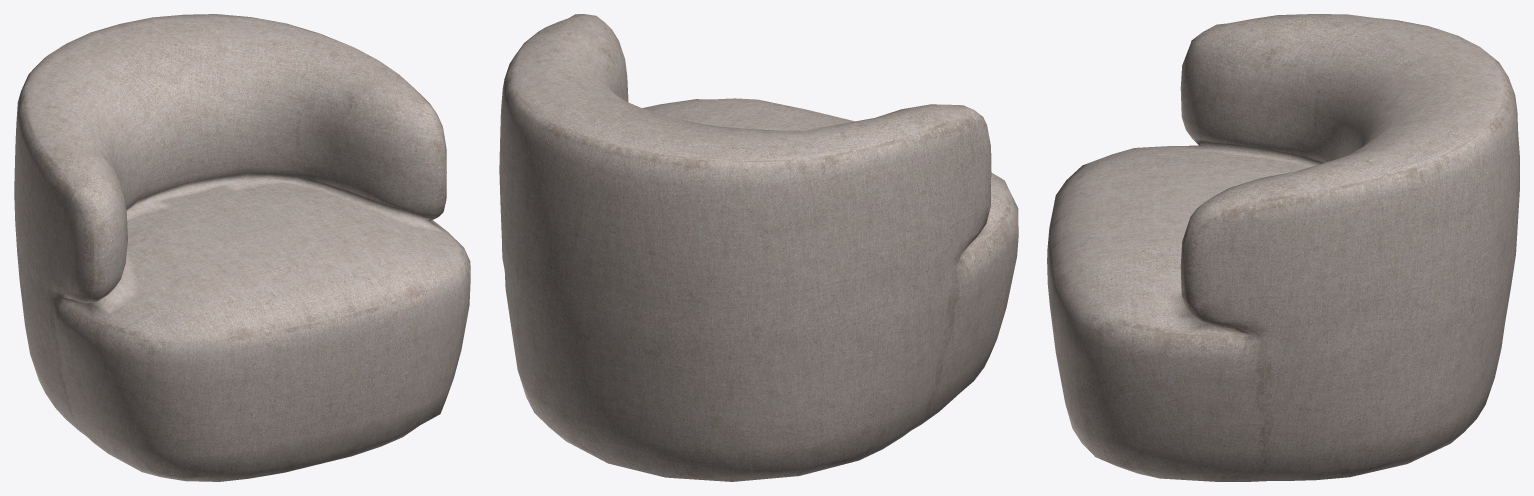
File: chair1-transformed.glb
3 views of the same model, side by side, from view 1: azimuth 30°, elevation 25°; view 2: azimuth 150°, elevation 25°; view 3: azimuth 270°, elevation 25° (orthographic). The views are drawn at different scales.
Visible parts, largest first — view 1: Cylinder001_Material #2146932551_0; view 2: Cylinder001_Material #2146932551_0; view 3: Cylinder001_Material #2146932551_0.
Boxes of the visible parts, box(x1,y1,x2,y2) form: Cylinder001_Material #2146932551_0: box(14, 14, 470, 481); Cylinder001_Material #2146932551_0: box(499, 14, 1018, 481); Cylinder001_Material #2146932551_0: box(1047, 14, 1519, 481).
Bounding box in the file's own units: 0.8364 × 0.6424 × 0.8619.
1 material, 1 textured.
